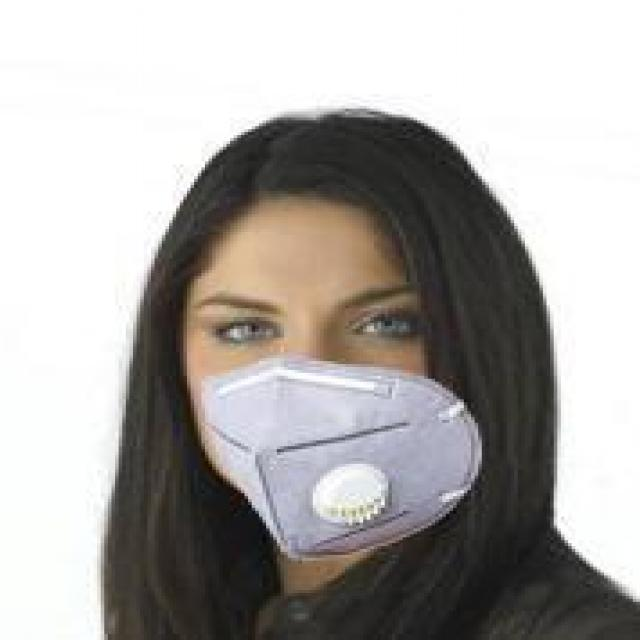mask: (101, 103, 575, 572)
